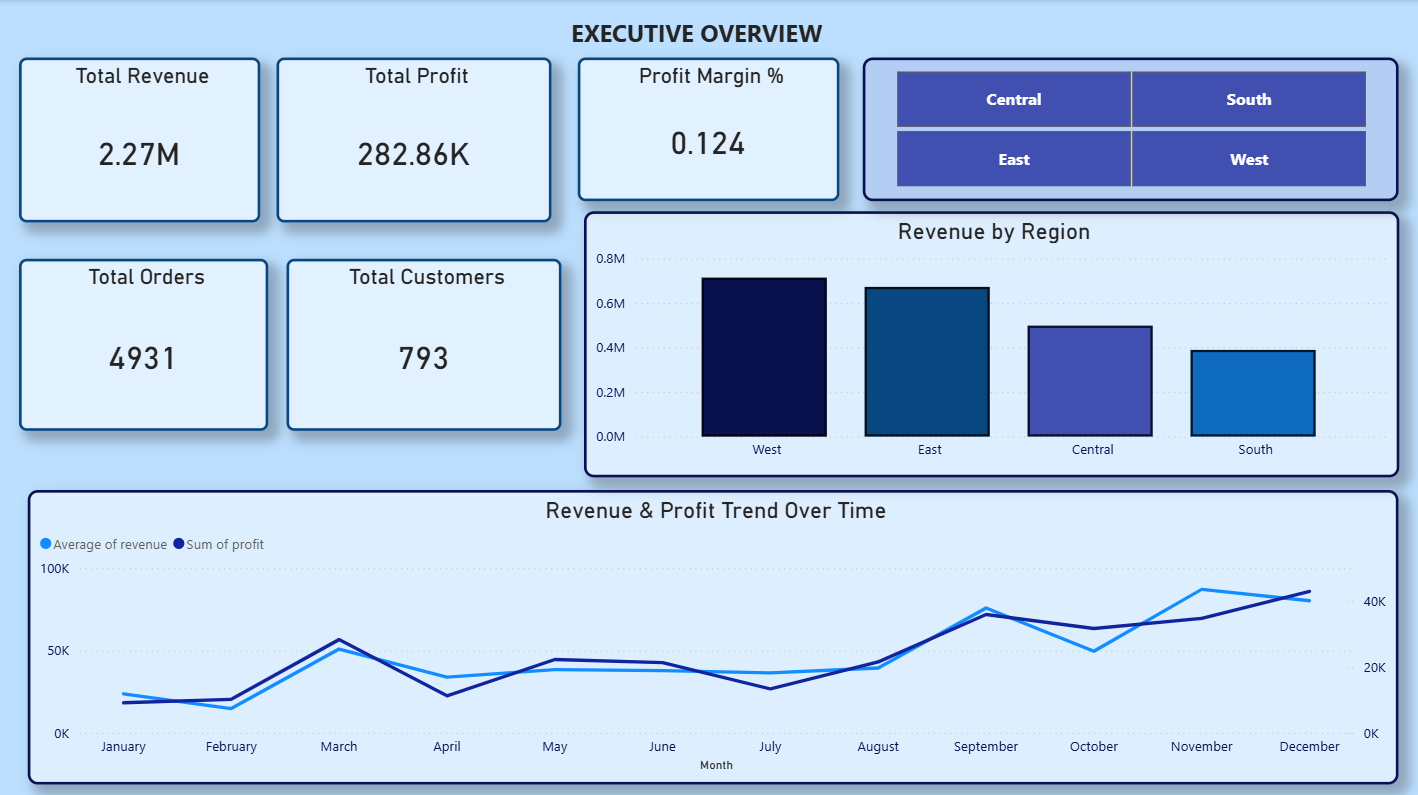

This screenshot's page, from the dashboard's own definition file:
{"tool":"powerbi","page":{"name":"Page 1","canvas":[1280,720],"ordinal":0},"visuals":[{"type":"card","title":"Total Revenue","fields":{"Values":["Sum(retail_analysis monthly_sales.revenue)"]},"box":[18.3,51.4,217.7,149.2],"z":0},{"type":"card","title":"Total Profit","fields":{"Values":["Sum(retail_analysis monthly_sales.profit)"]},"box":[250.7,51.4,248.2,149.2],"z":1000},{"type":"card","title":"Total Orders","fields":{"Values":["Count(retail_analysis orders.order_id)"]},"box":[18.3,233.6,225,155.3],"z":2000},{"type":"card","title":"Total Customers","fields":{"Values":["Count(retail_analysis orders.customer_id)"]},"box":[259.2,233.6,248.2,155.3],"z":3000},{"type":"card","title":"Profit Margin %","fields":{"Values":["retail_analysis customer_rfm.Profit Margin %"]},"box":[522.1,51.4,236,129.6],"z":4000},{"type":"lineChart","title":"Revenue & Profit Trend Over Time","fields":{"Y":["Avg(retail_analysis monthly_sales.revenue)"],"Category":["retail_analysis monthly_sales.month.Variation.Date Hierarchy.Month"],"Y2":["Sum(retail_analysis monthly_sales.profit)"]},"box":[25.7,441.4,1236.3,265.4],"z":5000},{"type":"clusteredColumnChart","title":"Revenue by Region","fields":{"Category":["retail_analysis orders.region"],"Y":["Sum(retail_analysis orders.sales)"]},"box":[527,190.8,734.9,239.7],"z":6000},{"type":"textbox","box":[498.9,9.8,259.2,52.6],"z":7000},{"type":"slicer","fields":{"Values":["retail_analysis orders.region"]},"box":[778.9,51.4,483,129.6],"z":7001}]}

Visuals, with their boxes in screenshot pixels (x1, y1, x2, y2), scaled from the page's 1280x720 canvas onto the 1418x795 screenshot:
"Total Revenue" card: bbox=[20, 57, 261, 221]
"Total Profit" card: bbox=[278, 57, 553, 221]
"Total Orders" card: bbox=[20, 258, 270, 429]
"Total Customers" card: bbox=[287, 258, 562, 429]
"Profit Margin %" card: bbox=[578, 57, 840, 200]
"Revenue & Profit Trend Over Time" lineChart: bbox=[28, 487, 1398, 780]
"Revenue by Region" clusteredColumnChart: bbox=[584, 211, 1398, 475]
textbox: bbox=[553, 11, 840, 69]
slicer - retail_analysis orders.region: bbox=[863, 57, 1398, 200]
